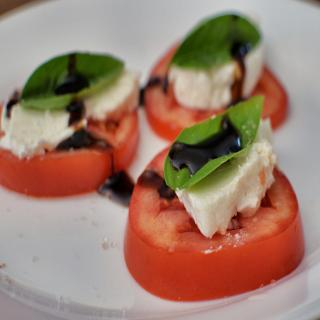tomato: (117, 120, 287, 304), (142, 41, 289, 138), (0, 110, 138, 198)
